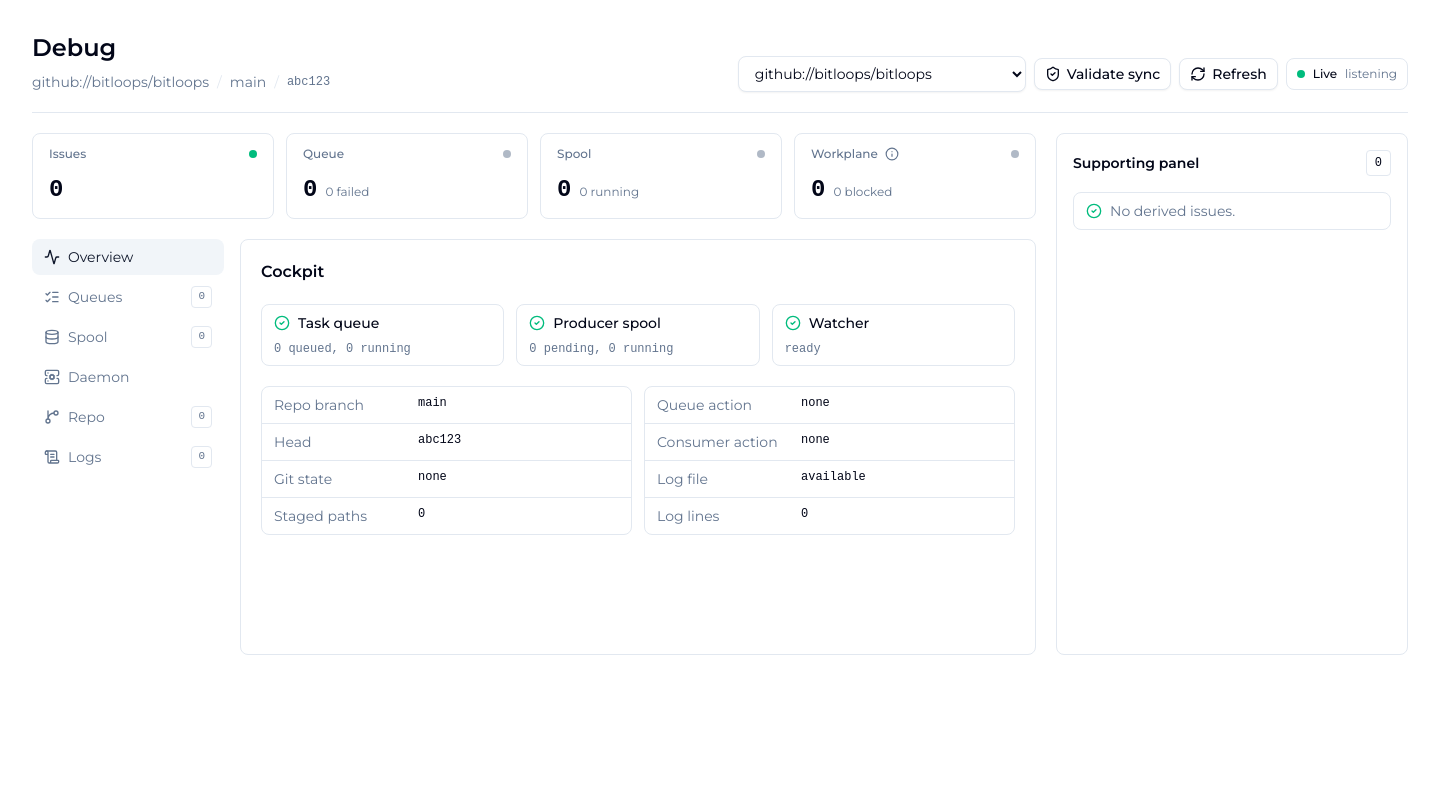
Test case: Debug › reports when validate sync passes after the task completes
Click the button "Validate sync" at (1103, 74), box [1034, 58, 1171, 90]
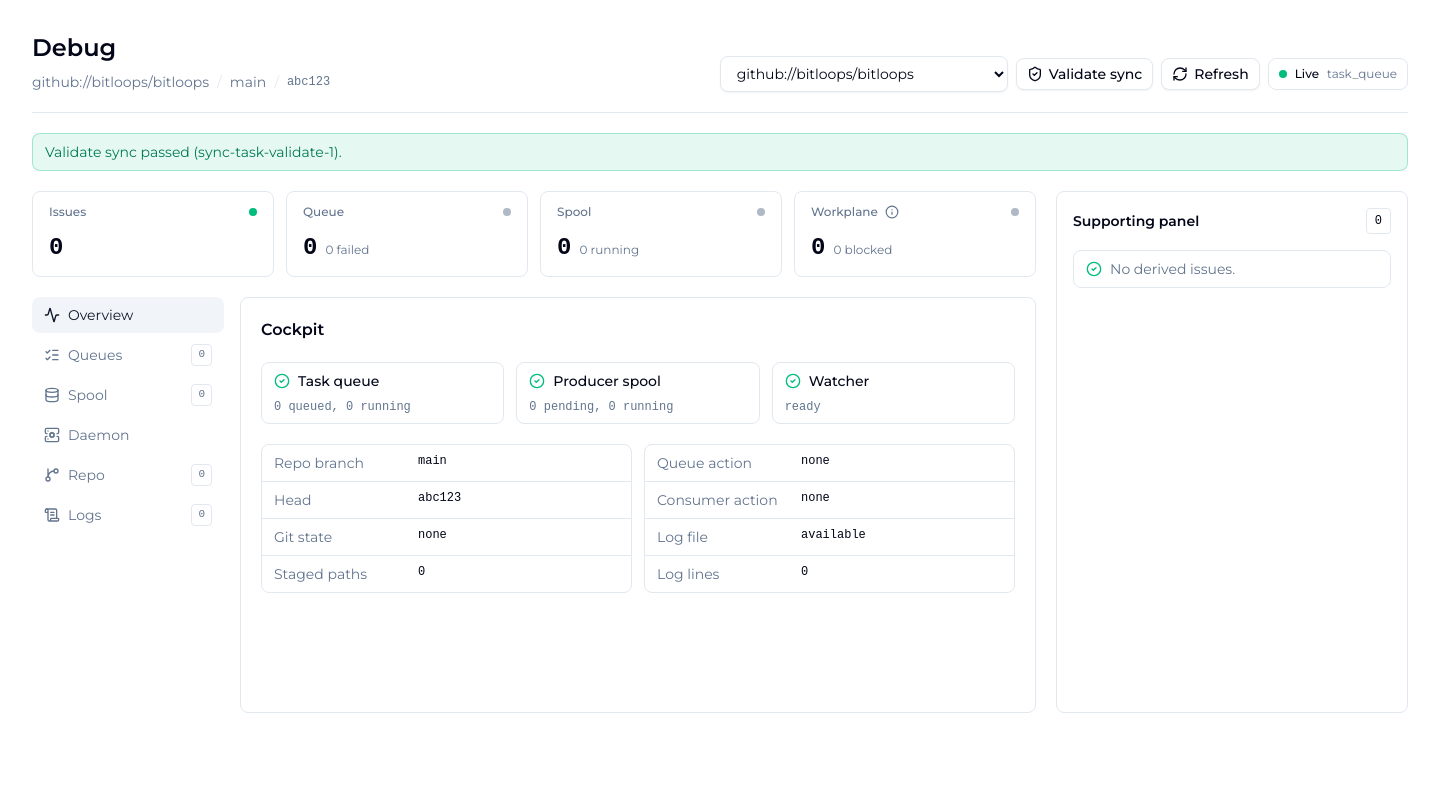
expect the text "Validate sync passed (sync-task-validate-1)." is shown: met, box [32, 133, 1408, 171]
